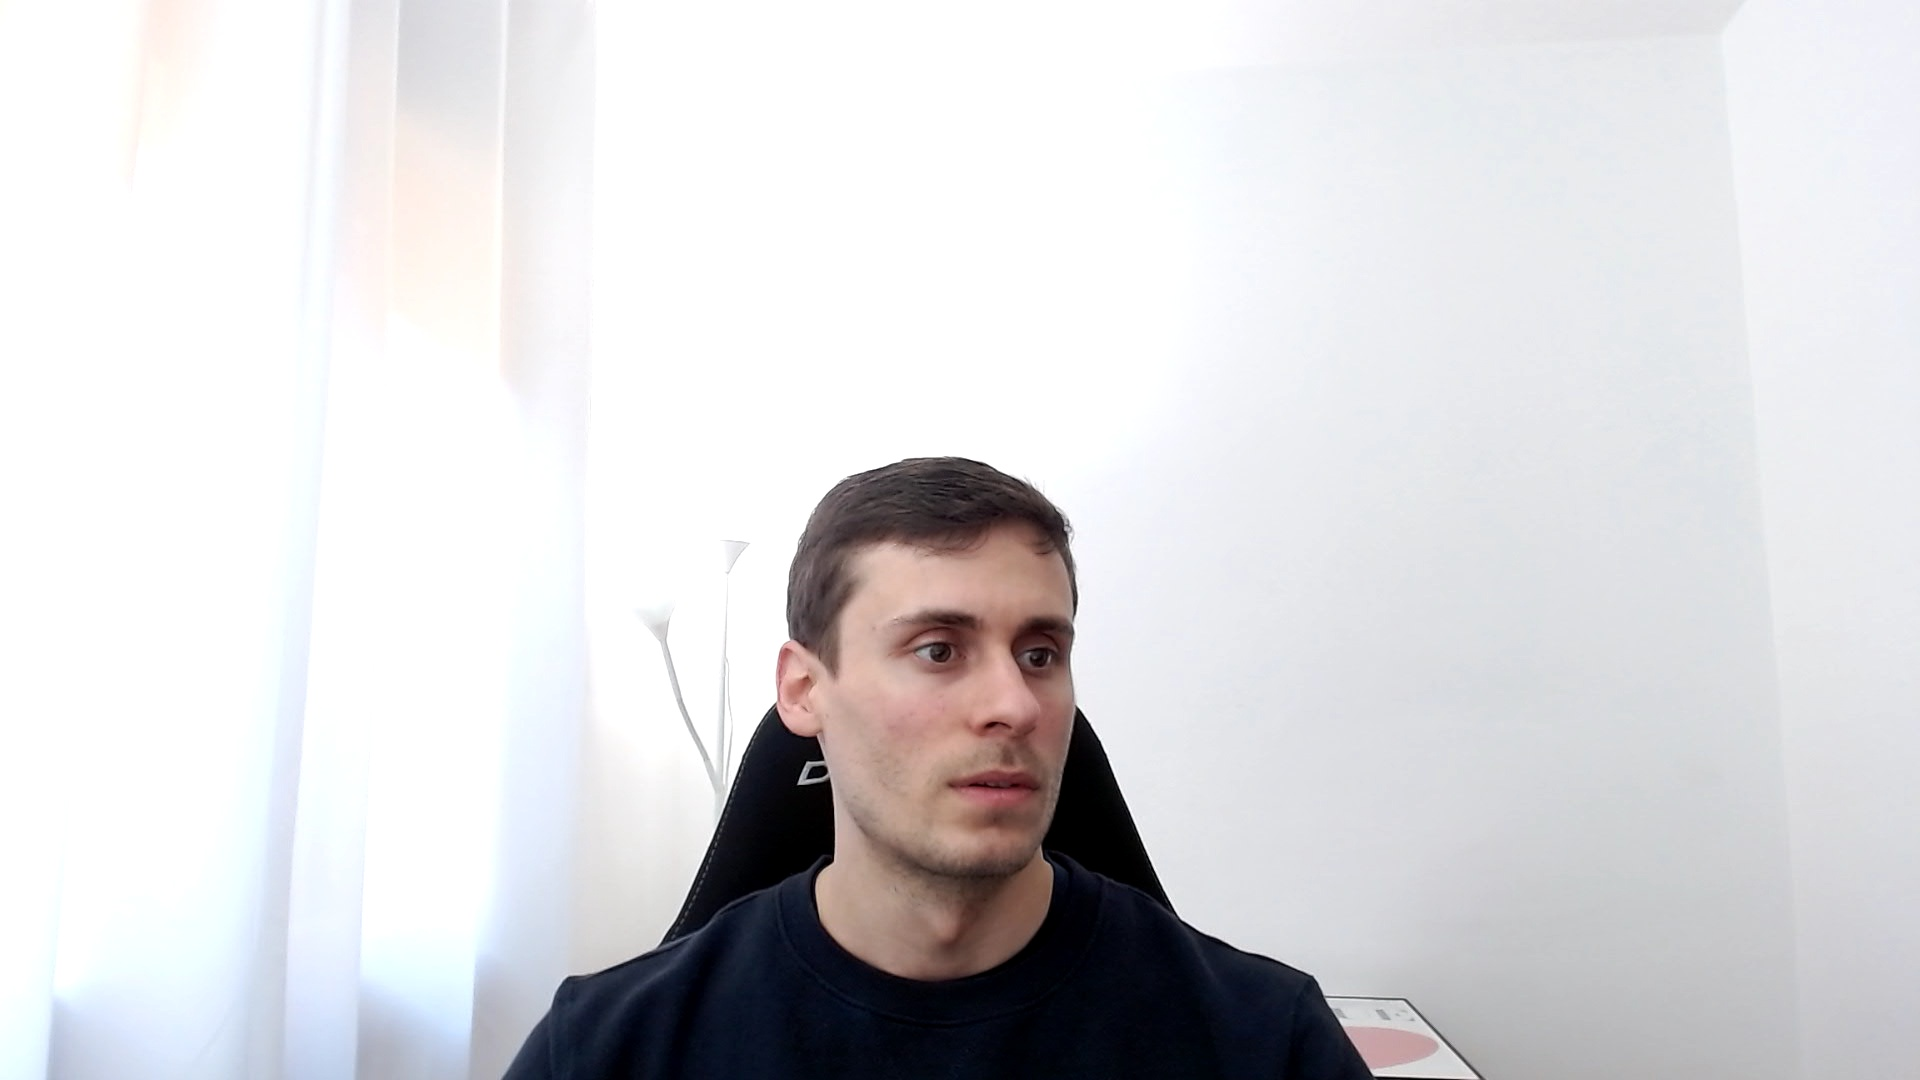No-mask: (776, 457, 1078, 876)
